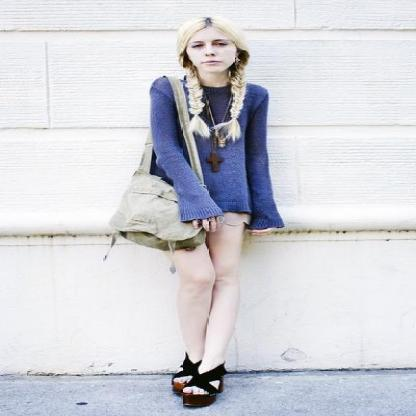bag: (104, 125, 211, 257)
jacket: (146, 76, 284, 230)
shoe: (138, 353, 232, 408)
shorts: (223, 213, 247, 231)
